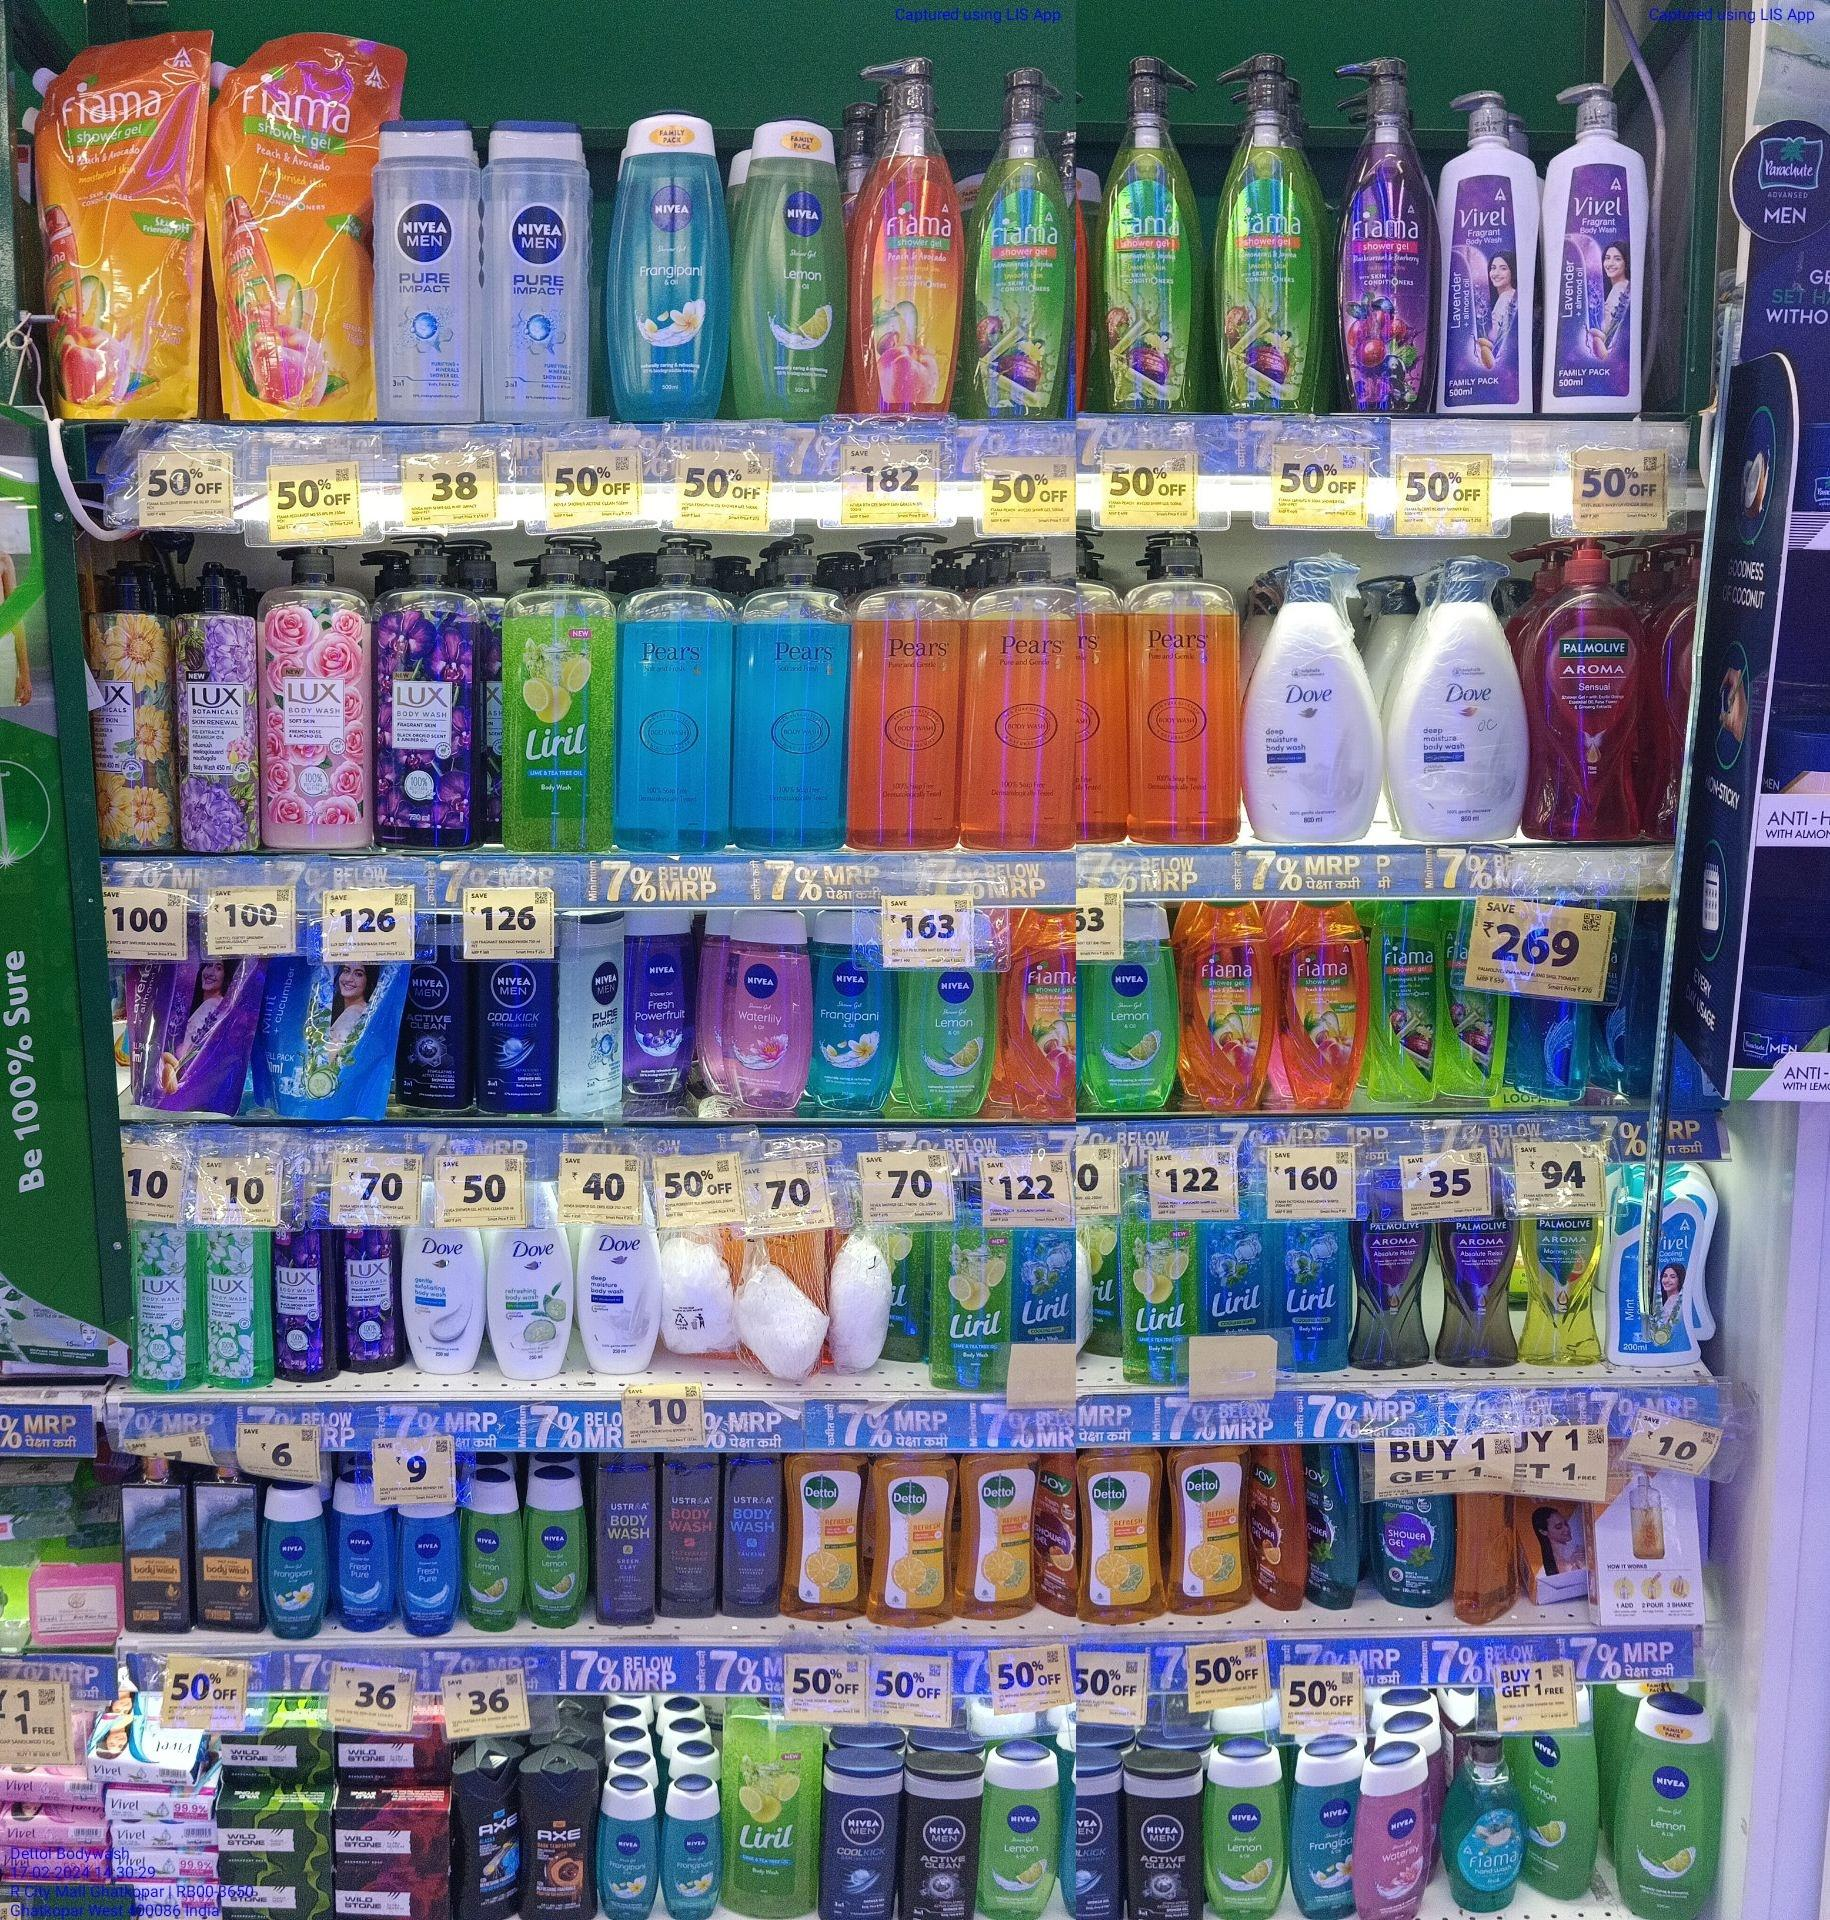Dettol_Bodywash_Refresh: (1076, 1443, 1170, 1622), (876, 1447, 961, 1629), (780, 1450, 869, 1622), (1174, 1440, 1254, 1610), (961, 1447, 1033, 1617)
Dove_Deep_Moisture_Body_Wash_250ML: (577, 1219, 658, 1375)
Dove_Gentle_Exfoliating_Body_Wash_250ML: (406, 1217, 490, 1370)
Dove_Refreshing_Body_Wash_250ML: (493, 1221, 574, 1380)
Fiama_Shower_Gel_Peach_and_Avocado_250ML: (1181, 902, 1275, 1109), (1277, 905, 1364, 1114), (1004, 915, 1074, 1126)
Liril_Cooling_Mint_Body_Wash_250ML: (1270, 1217, 1349, 1373), (1203, 1221, 1266, 1337)
Liril_Lime_and_Tea_Tree_Oil_Body_Wash_250ML: (727, 1699, 826, 1918), (939, 1217, 1014, 1392), (1117, 1214, 1189, 1389)
Lux_Black_Orchid_Scent_and_Juniper_Oil_Body_Wash_245ML: (276, 1224, 336, 1382), (341, 1222, 403, 1368)
Lux_Body_Wash_Skin_Detox_Freesia_Scent_and_Alove_Vera_245ML: (127, 1222, 197, 1387), (202, 1227, 271, 1387)
Nivea_Shower_Gel_Frangipani_and_Oil_250ML: (612, 122, 732, 420), (817, 907, 893, 1109), (1295, 1740, 1354, 1920)
Nivea_Shower_Gel_Fresh_Powerfruit_250ML: (620, 905, 692, 1102)
Nivea_Shower_Gel_Lemon_and_Oil_250ML: (737, 115, 850, 413), (1614, 1697, 1725, 1915), (1091, 905, 1177, 1111), (1210, 1735, 1290, 1920), (900, 951, 989, 1118), (1523, 1704, 1600, 1894), (980, 1738, 1057, 1920)
Nivea_Shower_Gel_Waterlily_and_Oil_250ML: (725, 907, 810, 1113), (1355, 1735, 1434, 1920)
Palmolive_Aroma_Morning_Tonic_Shower_Gel_250ML: (1522, 1221, 1607, 1370)
Palmolive_Aroma_Relax_250ML: (1357, 1171, 1431, 1370), (1441, 1219, 1516, 1366)
